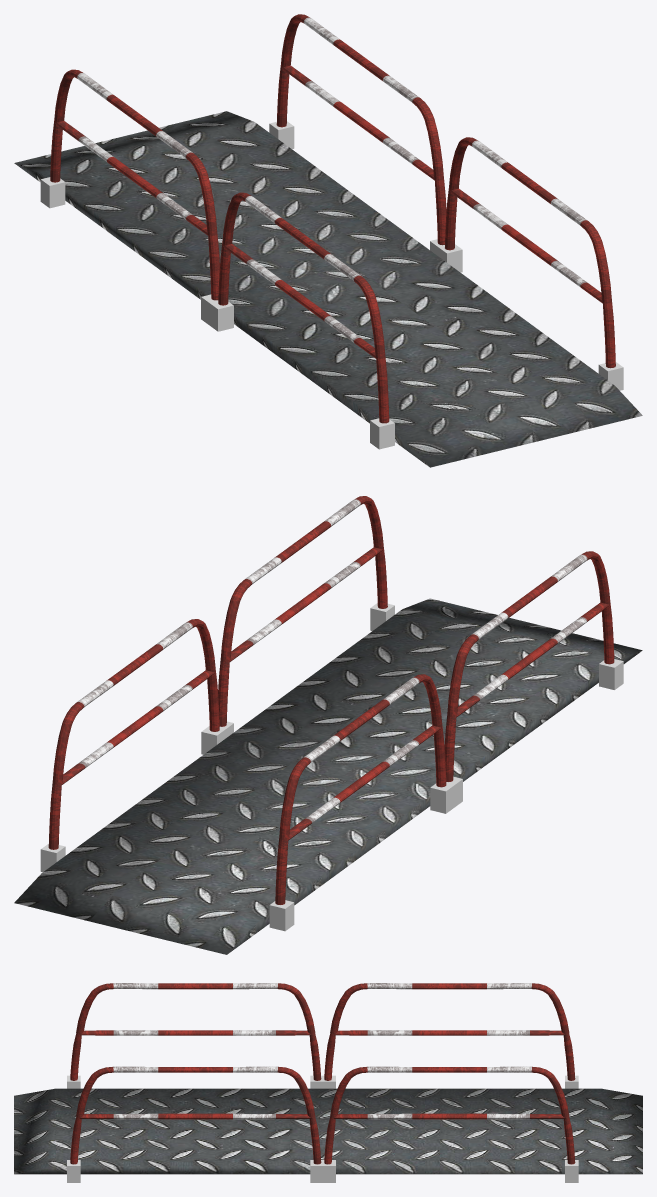
Rendered from bridge.fbx.
3 renders of one model, top to bottom at view 1: azimuth 30°, elevation 25°; view 2: azimuth 150°, elevation 25°; view 3: azimuth 270°, elevation 25°, orthographic. The views are drawn at different scales.
Parts seen in each view (by area): view 1: Feet; view 2: Feet; view 3: Feet.
Part boxes in pixels (<box>): Feet: <box>14,14,642,467</box>; Feet: <box>14,496,642,954</box>; Feet: <box>14,983,642,1182</box>.
Size of the model in its own units: 282 by 164 by 831.
